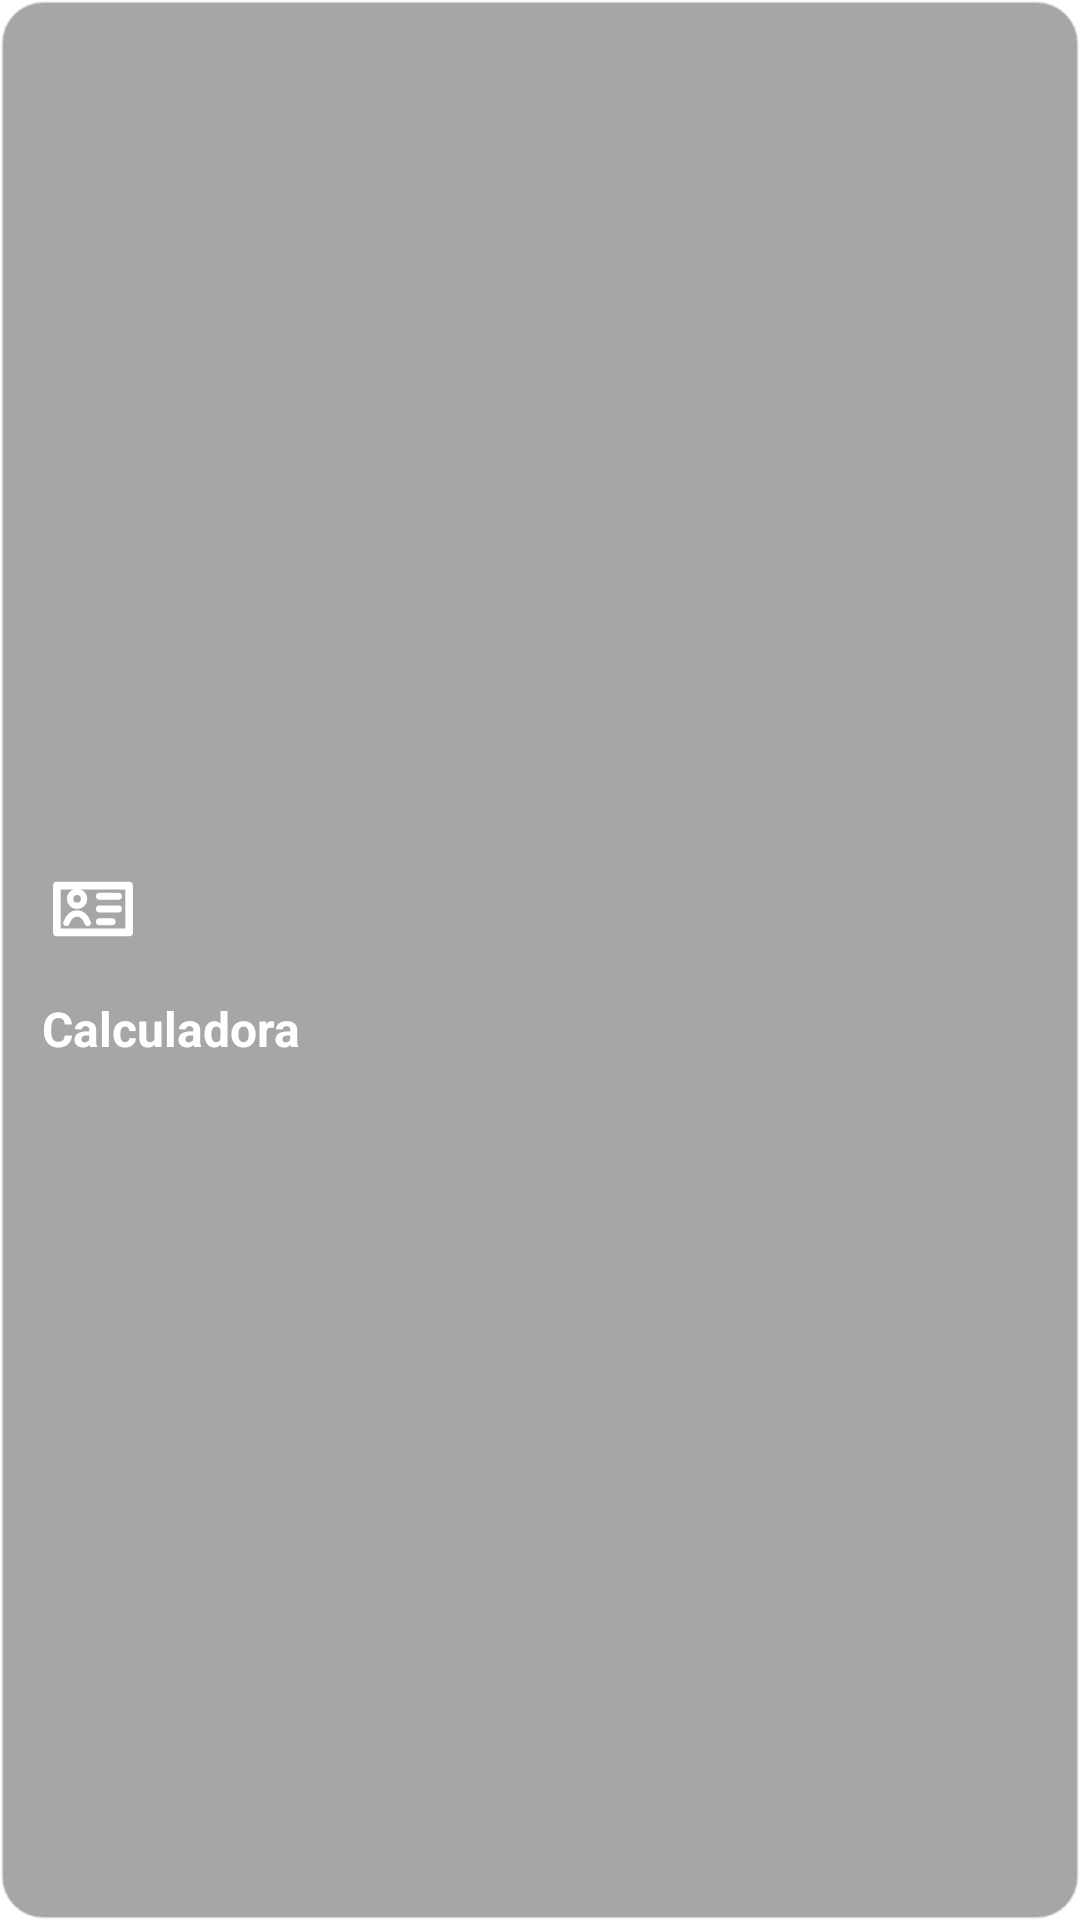

Where to tap for icons on this 1080px x 1920px app screen, as (x,y):
tool id card: (93,909)
